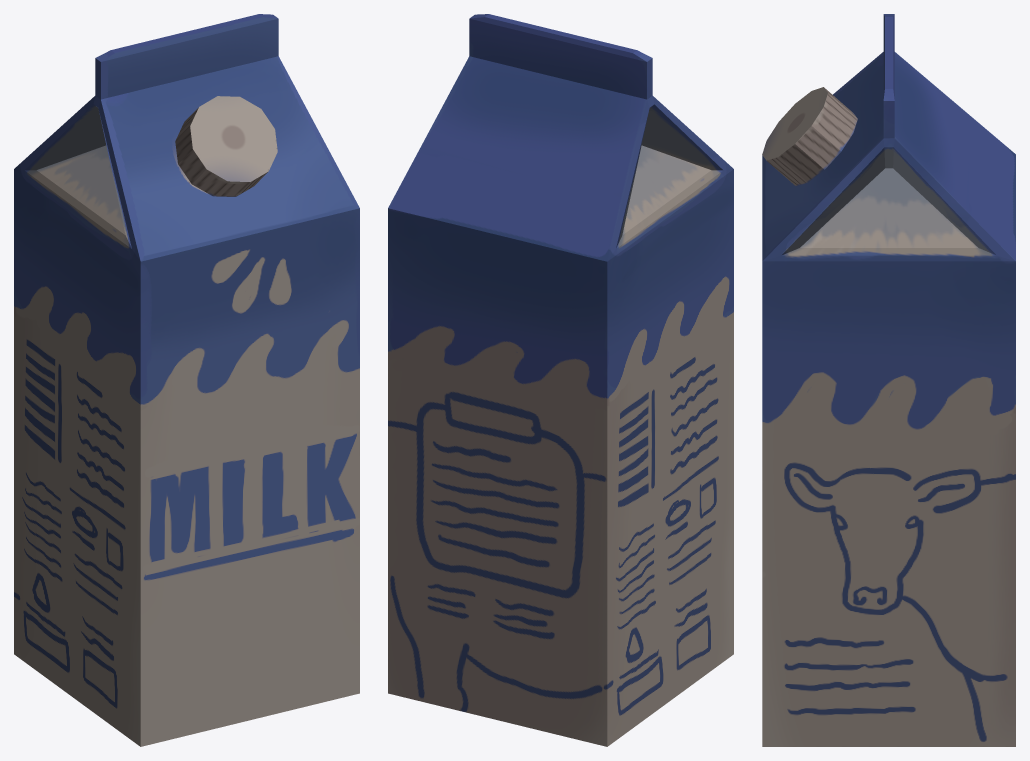
File: milk.glb
3 renders of one model, left to right at view 1: azimuth 30°, elevation 25°; view 2: azimuth 150°, elevation 25°; view 3: azimuth 270°, elevation 25°, orthographic.
Visible parts, largest first — view 1: Milk_Geo_MilkGeo; view 2: Milk_Geo_MilkGeo; view 3: Milk_Geo_MilkGeo.
Part boxes in pixels (<box>): Milk_Geo_MilkGeo: <box>14,14,359,746</box>; Milk_Geo_MilkGeo: <box>388,14,733,746</box>; Milk_Geo_MilkGeo: <box>762,14,1015,746</box>.
Bounding box in the file's own units: 0.2044 × 0.5701 × 0.2046.
1 material, 1 textured.
